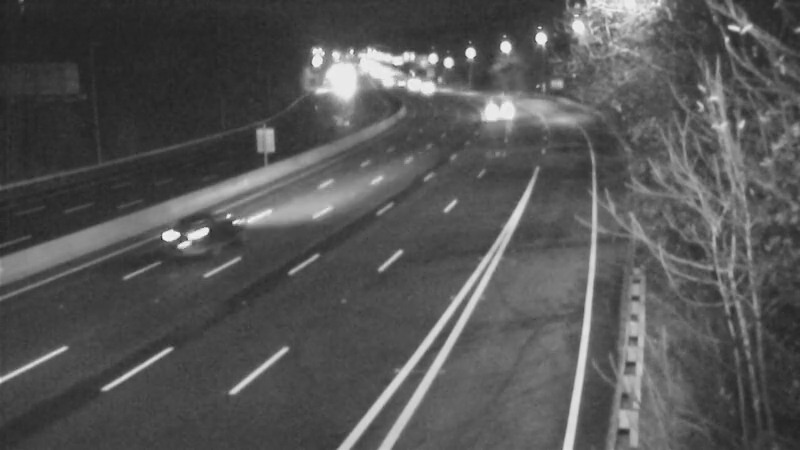vehicle: (161, 193, 241, 273), (401, 63, 451, 113), (473, 77, 523, 127)
